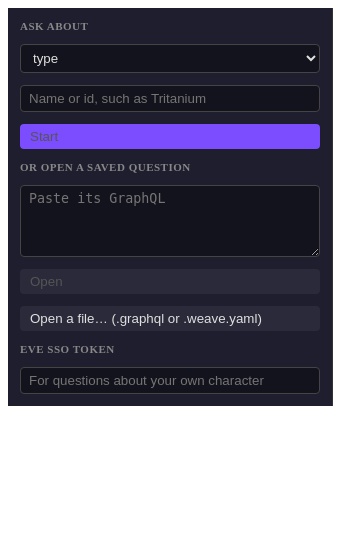
Test case: DraftPanel › starts from a subject and offers the moves the fabric lists
Type "Tritanium" into the field labelled "Name or id".
click(170, 98); type("Tritanium")  # box [20,85,320,112]
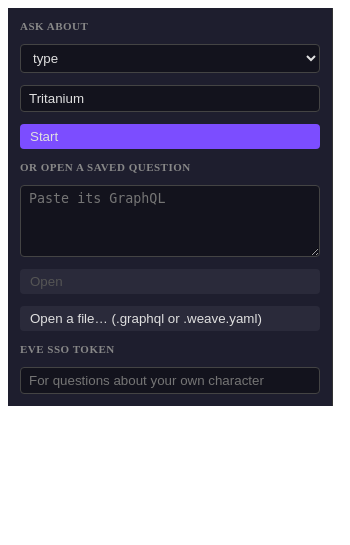
Click the button "Start".
click(44, 136)  # box [20,124,320,149]
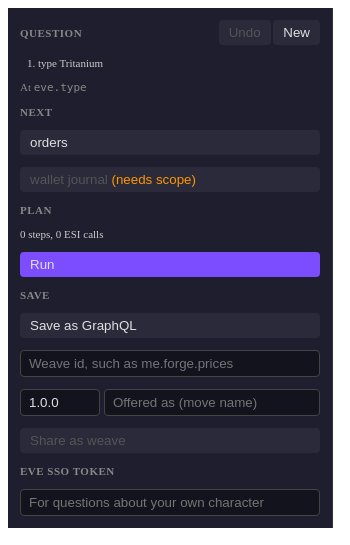
Result: the button "orders" is enabled at [20,130,320,155]
Result: the button "wallet journal (needs scope)" is disabled at [20,167,320,192]
